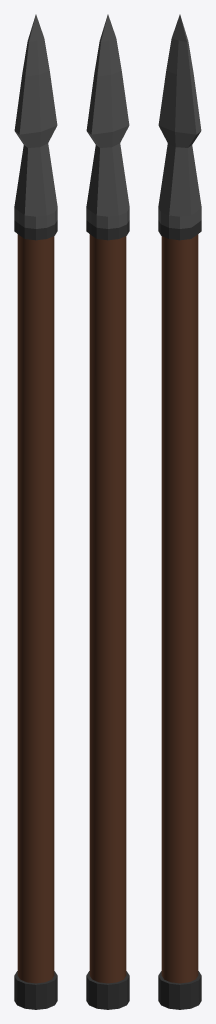
The model's file is Spear_003.fbx.
3 views of the same model, side by side, from view 1: azimuth 30°, elevation 25°; view 2: azimuth 210°, elevation 25°; view 3: azimuth 330°, elevation 25° (orthographic).
Visible parts, largest first — view 1: Spear.003; view 2: Spear.003; view 3: Spear.003.
Part boxes in pixels (x1,y1,x2,y2): Spear.003: [14, 14, 57, 1009]; Spear.003: [86, 14, 129, 1009]; Spear.003: [158, 14, 201, 1009].
Bounding box in the file's own units: 0.2603 × 6.48 × 0.259.
